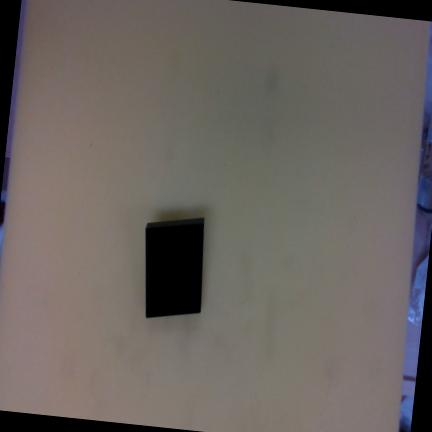tile: (145, 223, 204, 318)
